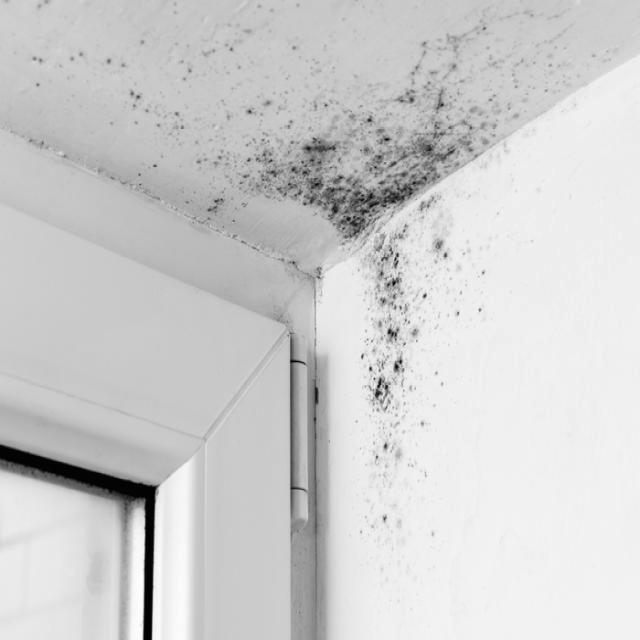stain marks: (354, 12, 490, 574), (191, 0, 350, 252), (30, 0, 181, 201), (496, 2, 632, 158)
